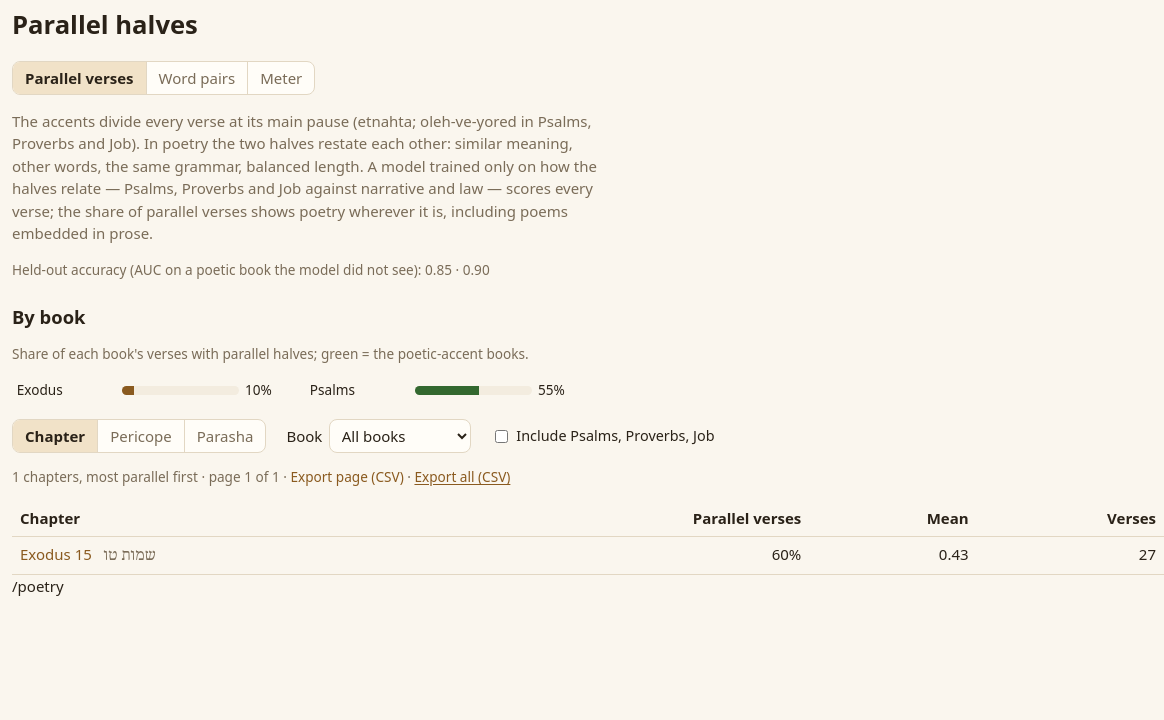
Test: PoetryPage › ranks units, shows book shares and keeps filters in the URL
Expected: the text "60%" is shown, [450,536,809,575]
Expected: the number of list items is 2, [12,378,285,403]; [305,378,578,403]
Click the checkbox labelled "Include Psalms, Proverbs, Job". click: x=501, y=436
box: [495,430,508,442]
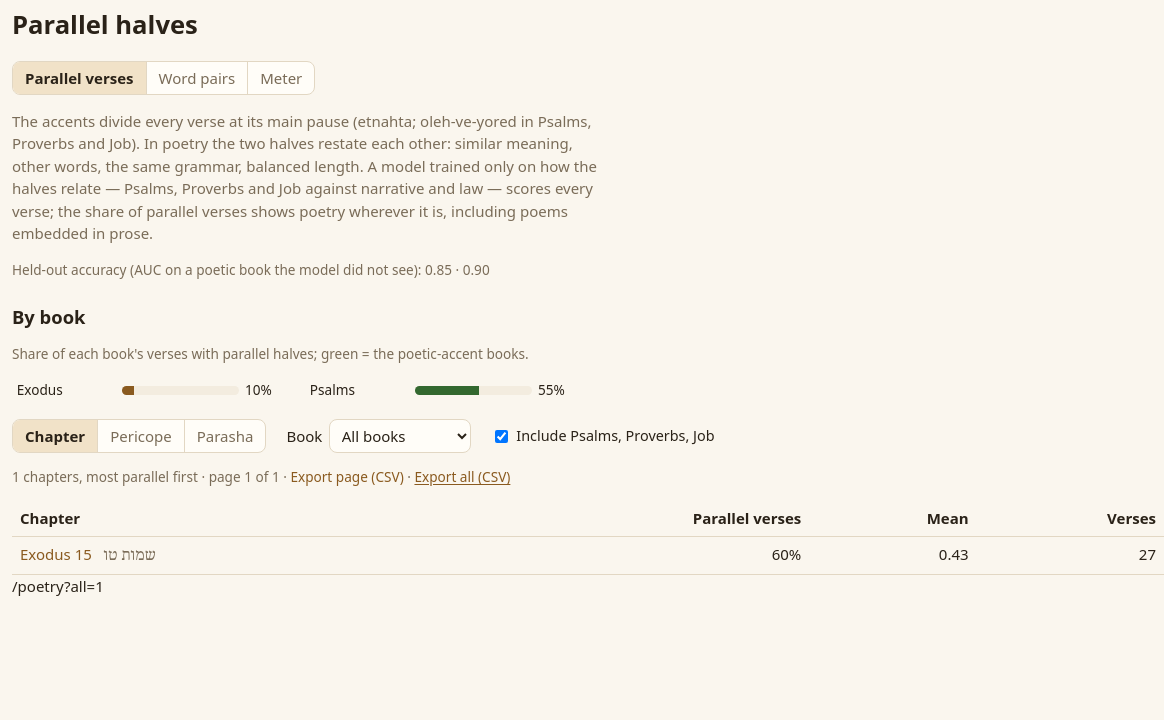
Expected: the text with test id "loc" reads "/poetry?all=1", [12,576,104,596]
